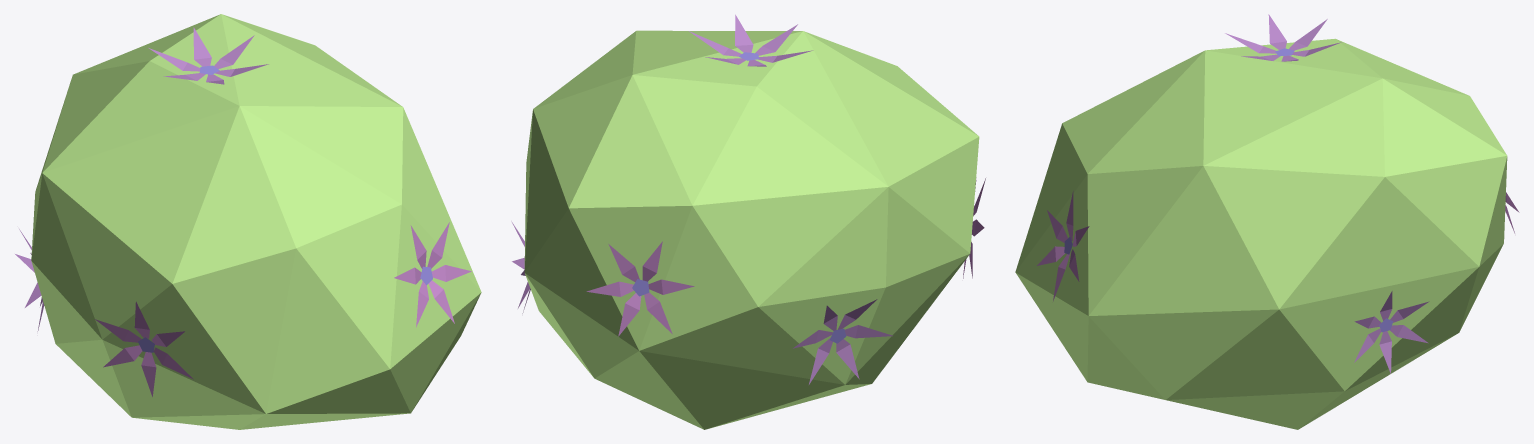
The model's file is FlowerBush_g_m_04.fbx.
The picture shows the model from 3 angles, left to right: view 1: azimuth 30°, elevation 25°; view 2: azimuth 150°, elevation 25°; view 3: azimuth 270°, elevation 25°; orthographic projection. The views are drawn at different scales.
Parts seen in each view (by area): view 1: FlowerBush_g_m_04; view 2: FlowerBush_g_m_04; view 3: FlowerBush_g_m_04.
Boxes of the visible parts, bbox=[...] form: FlowerBush_g_m_04: bbox=[15, 14, 481, 429]; FlowerBush_g_m_04: bbox=[511, 14, 985, 429]; FlowerBush_g_m_04: bbox=[1015, 14, 1519, 429].
Bounding box in the file's own units: 129 × 117 × 150.
